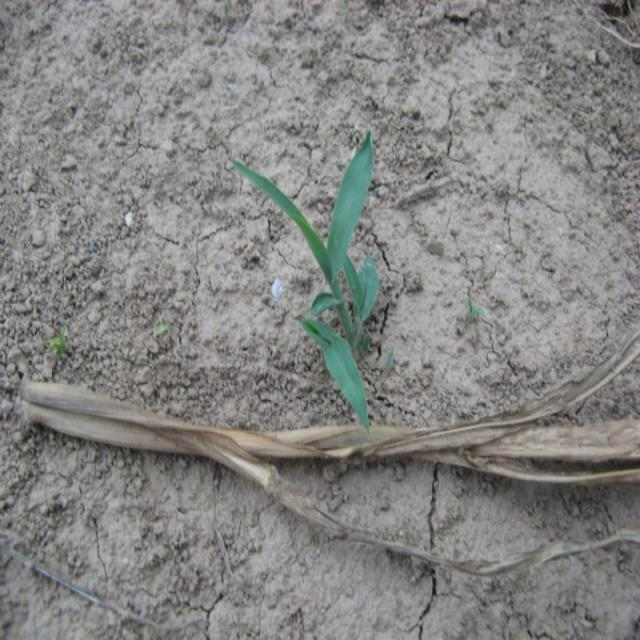bg: (234, 127, 398, 431)
